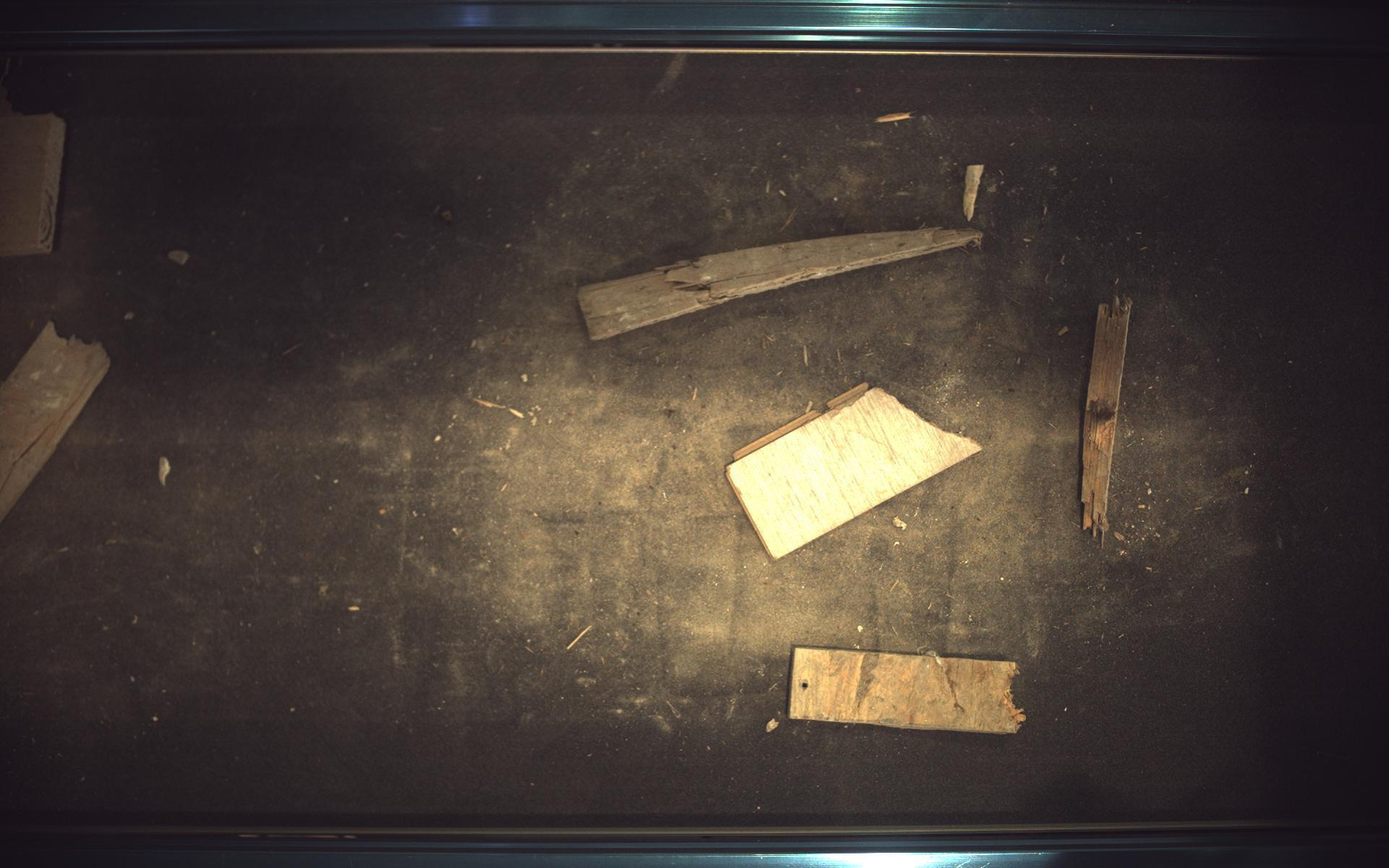wood: (579, 226, 985, 340), (727, 382, 984, 559), (790, 650, 1028, 735), (1085, 295, 1135, 542), (965, 163, 986, 221)
